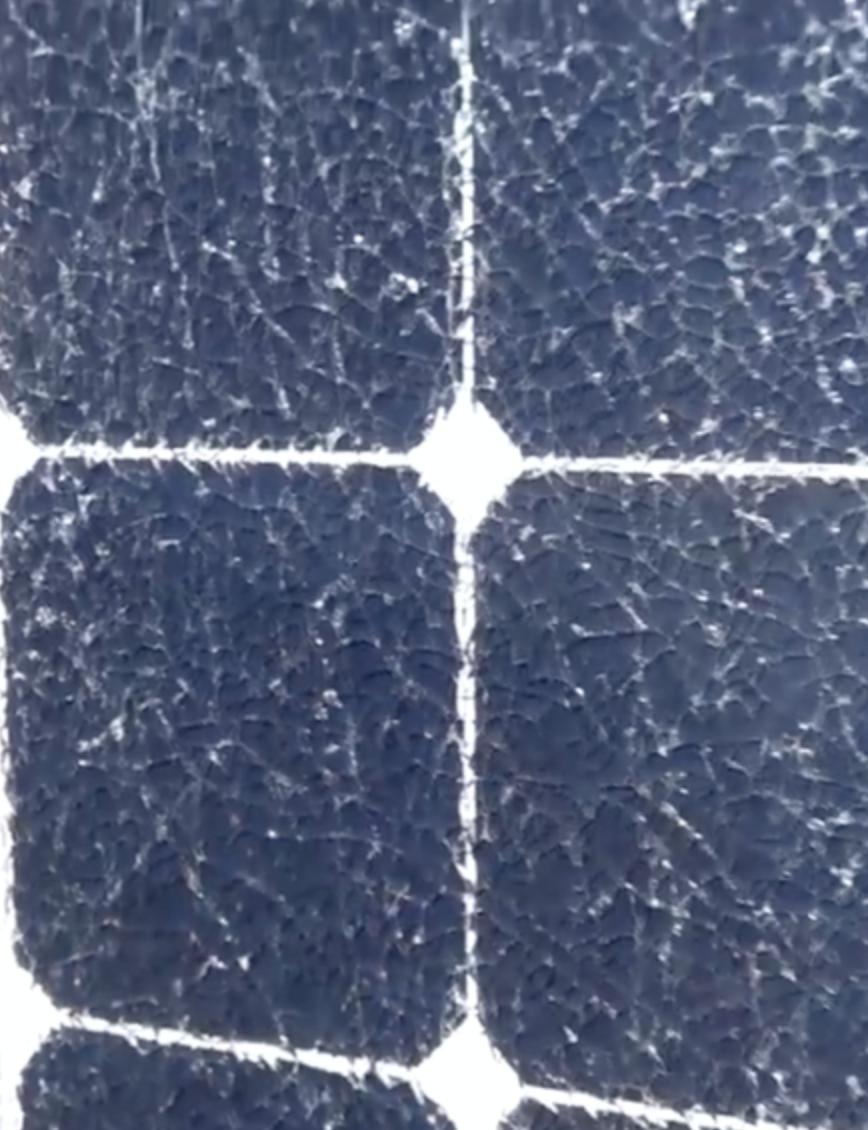Crack: (6, 9, 868, 1062)
